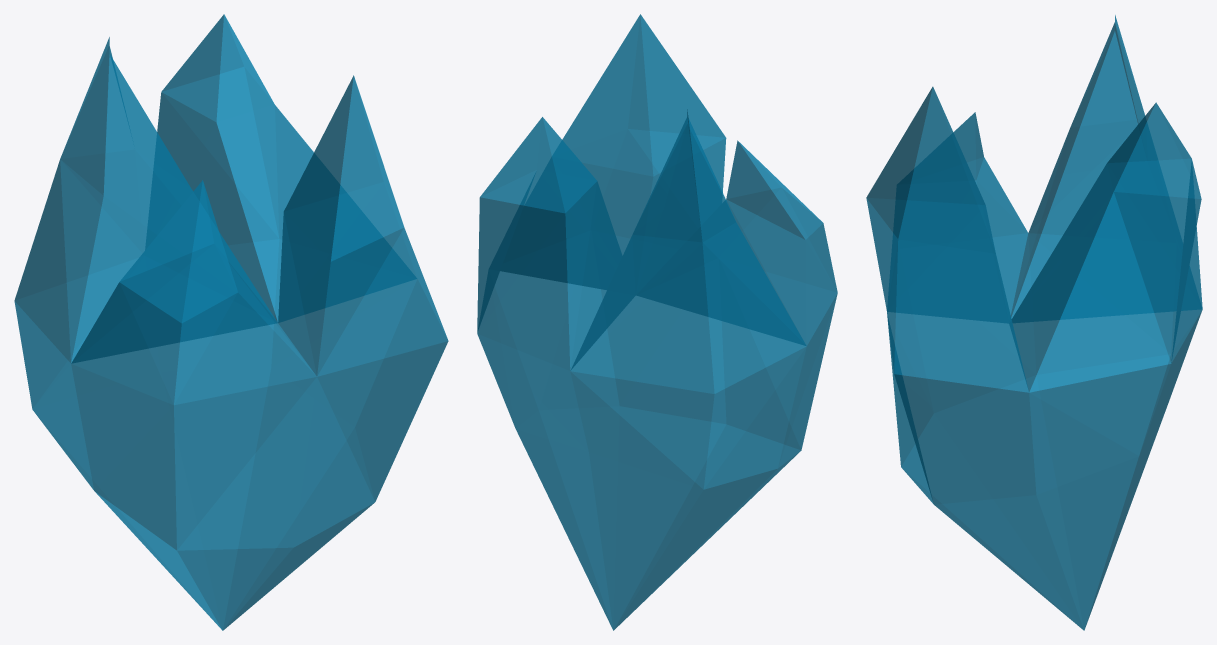
The model's file is crystal01.fbx.
3 renders of one model, left to right at view 1: azimuth 30°, elevation 25°; view 2: azimuth 150°, elevation 25°; view 3: azimuth 270°, elevation 25°, orthographic. The views are drawn at different scales.
Parts seen in each view (by area): view 1: crystal01; view 2: crystal01; view 3: crystal01.
Part boxes in pixels (left/top/right/bottom): crystal01: left=14, top=14, right=448, bottom=630; crystal01: left=477, top=14, right=837, bottom=630; crystal01: left=866, top=15, right=1202, bottom=630.
Size of the model in its own units: 139 by 233 by 124.
